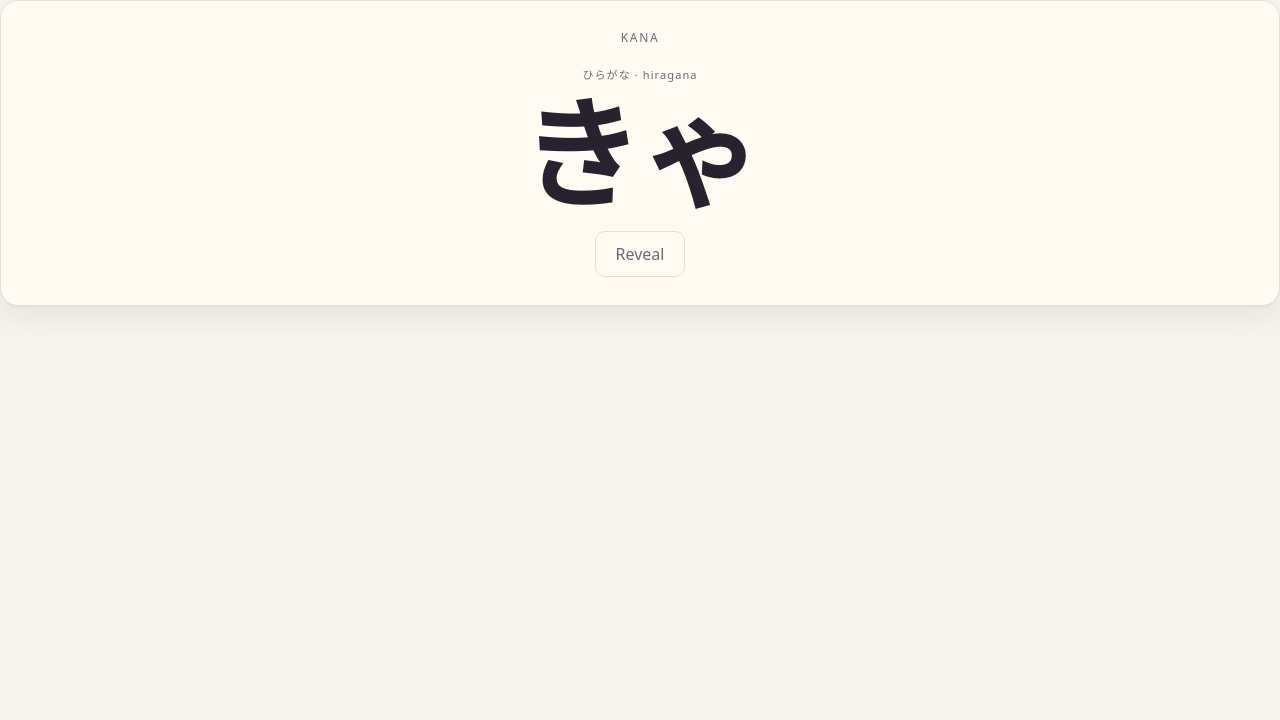
Test case: KanaCard (yōon, D-029) › shows a stroke chart for each component glyph of a yōon on reveal
Click the button "Reveal": (640, 254) left=594, top=231, right=685, bottom=277
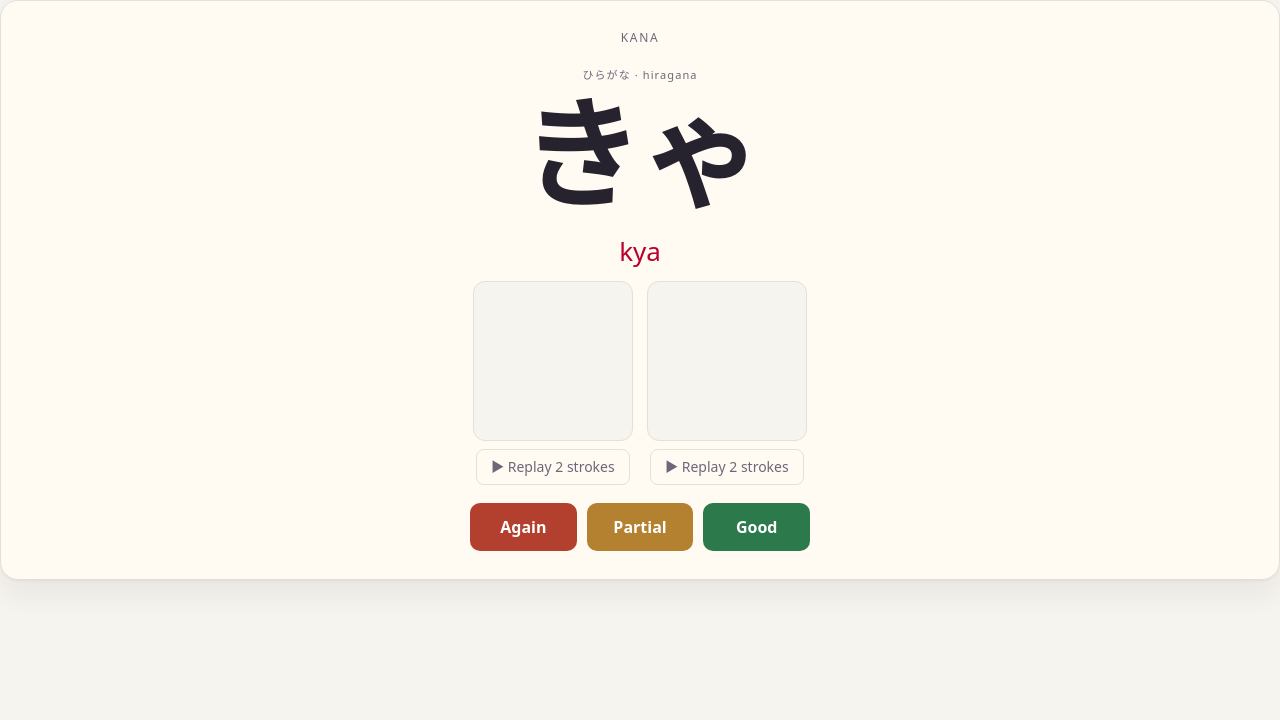
Expected: the text "kya" is shown, left=619, top=231, right=661, bottom=271
Expected: the picture named "Stroke order for き" is shown, left=473, top=281, right=633, bottom=441
Expected: the picture named "Stroke order for ゃ" is shown, left=647, top=281, right=807, bottom=441
